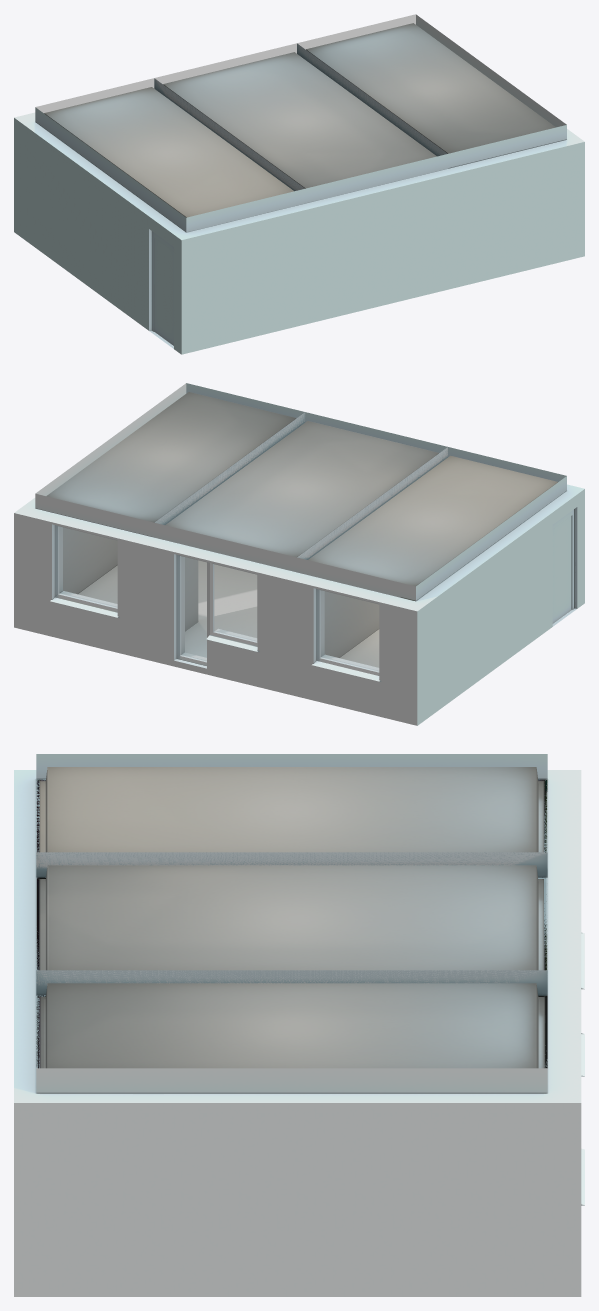
The model's file is Home.obj.
3 views of the same model, one above another, from view 1: azimuth 30°, elevation 25°; view 2: azimuth 150°, elevation 25°; view 3: azimuth 270°, elevation 25° (orthographic). The views are drawn at different scales.
Visible parts, largest first — view 1: Home_out.001_Cube.006; view 2: Home_out.001_Cube.006; view 3: Home_out.001_Cube.006.
Part boxes in pixels (left/top/right/bottom): Home_out.001_Cube.006: left=14, top=14, right=584, bottom=354; Home_out.001_Cube.006: left=14, top=383, right=584, bottom=725; Home_out.001_Cube.006: left=14, top=754, right=584, bottom=1296.
Size of the model in its own units: 8.48 by 2.6 by 6.14.
1 material, 1 textured.
